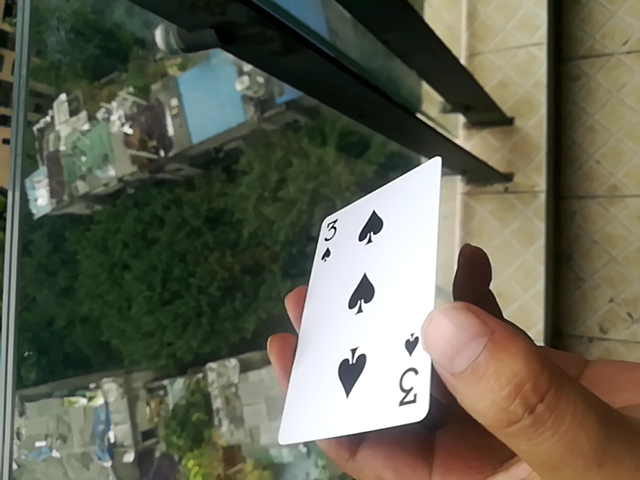ht 3: (274, 155, 447, 451)
